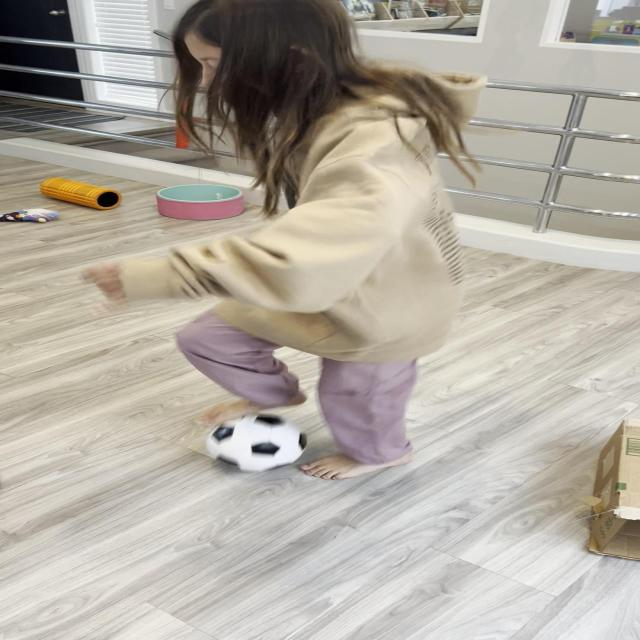Soccer Ball: (208, 414, 306, 472)
